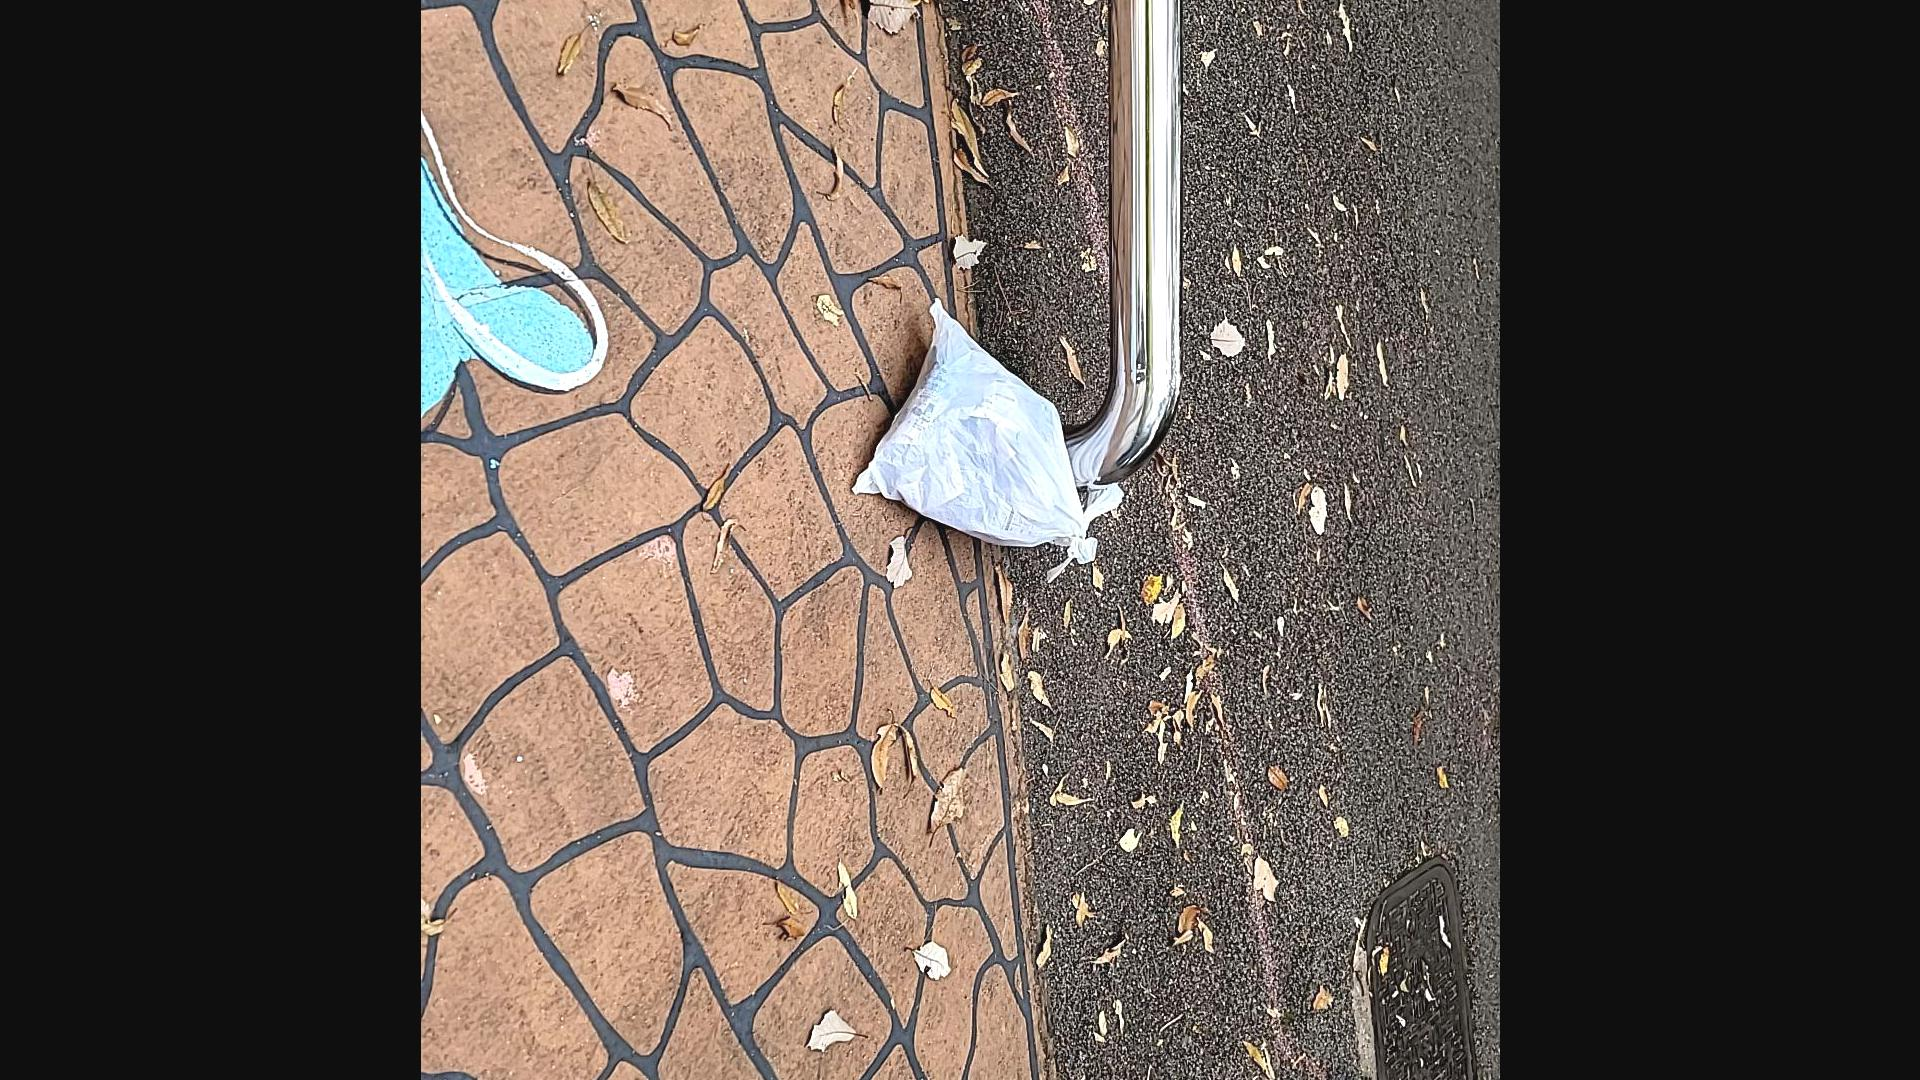white_bag: (837, 269, 1135, 607)
